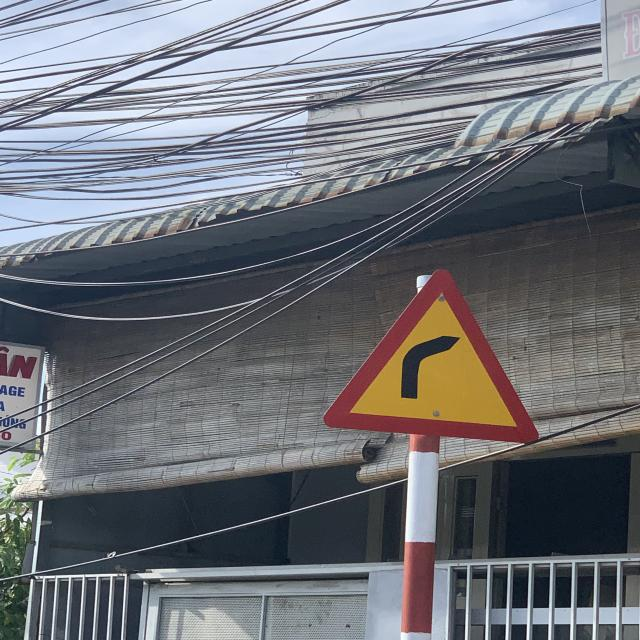Duong_Nguoi_Di_Bo_Cat_Ngang: (321, 268, 541, 445)
